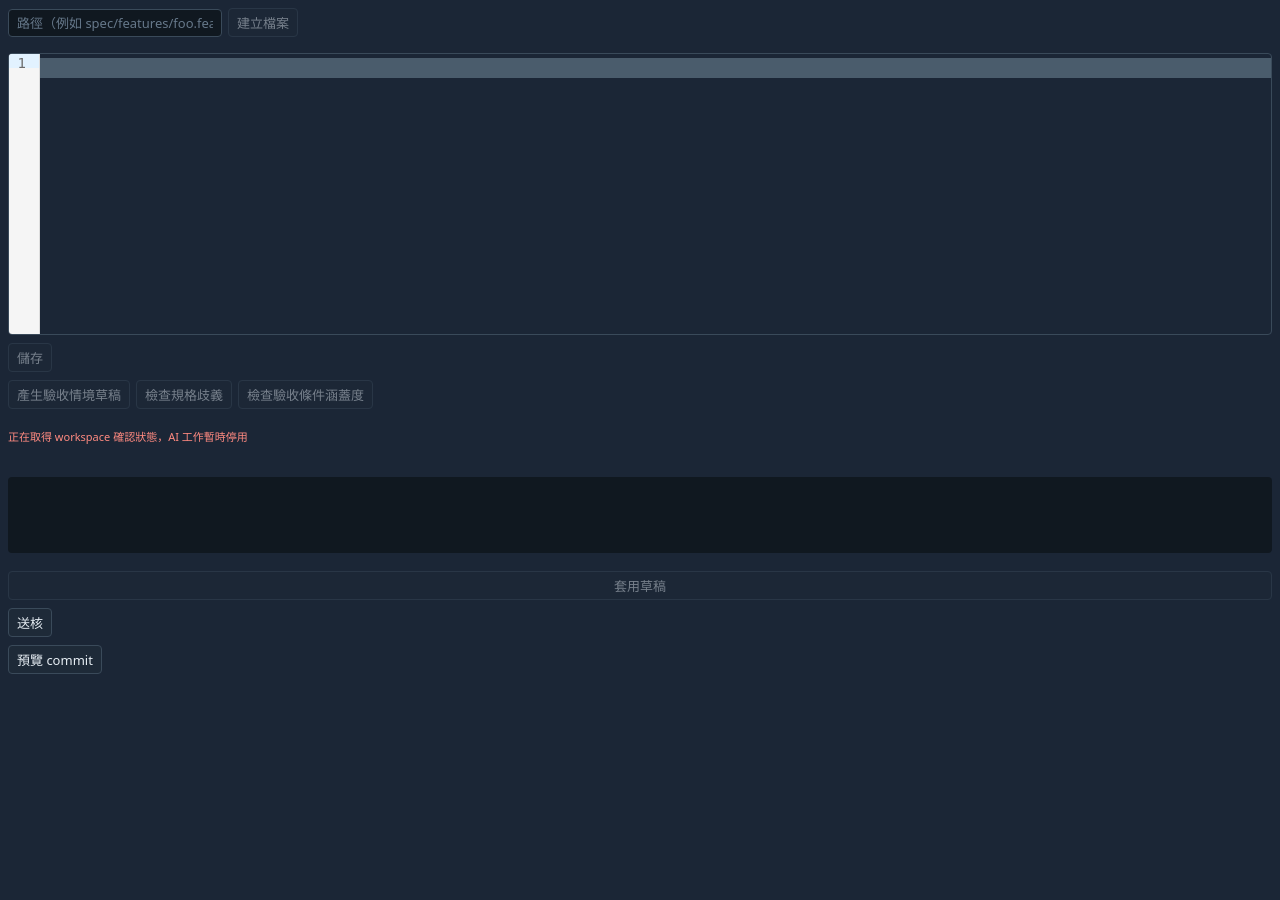
SpecWorkspace 新增檔案 › 失敗顯示錯誤原文，清單不動
Type "spec/features/dup.feature" into the field with test id "new-file-path".
click(115, 22); type("spec/features/dup.feature")  # box [8,8,222,36]
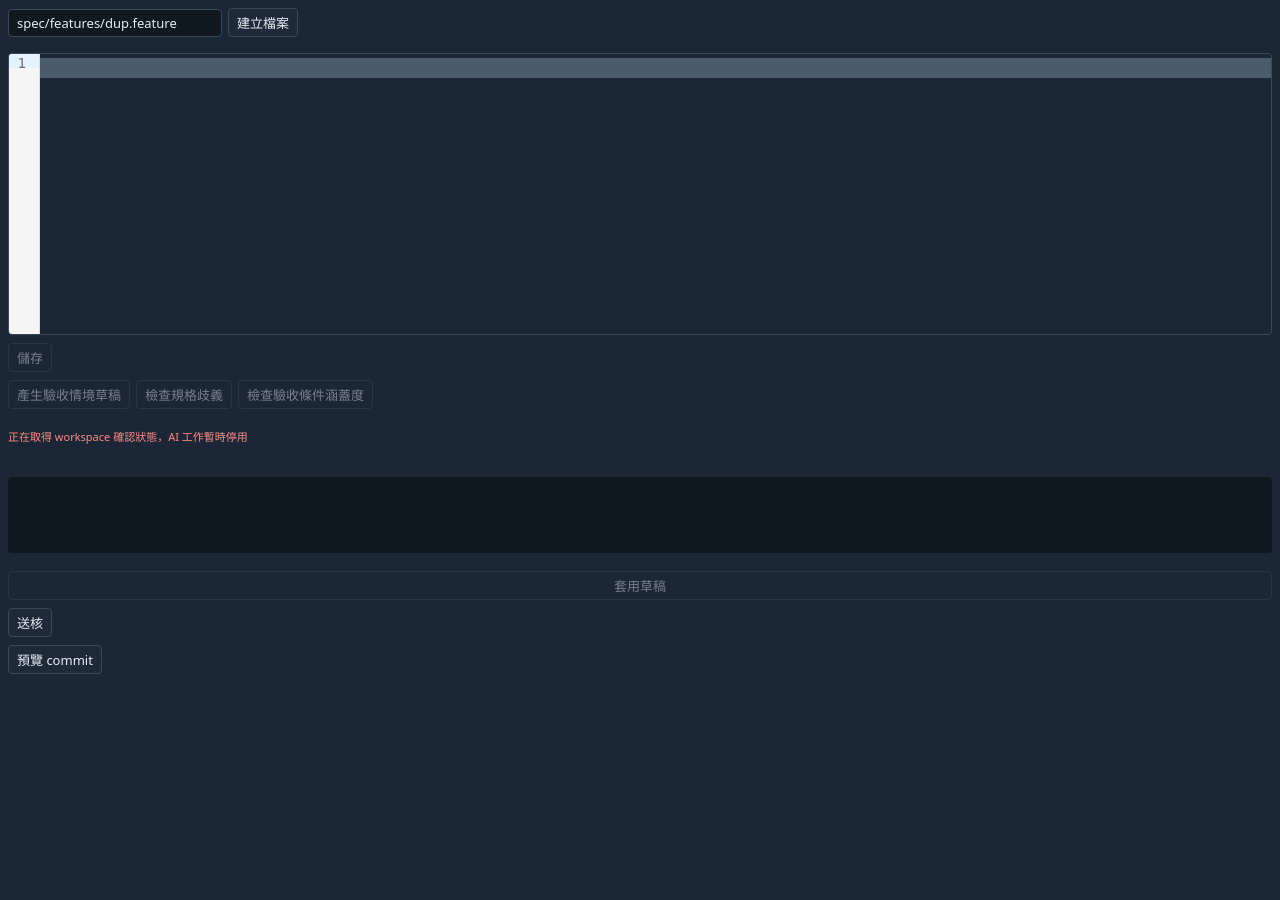
Click the button with test id "new-file-submit".
click(263, 22)  # box [228,8,298,37]
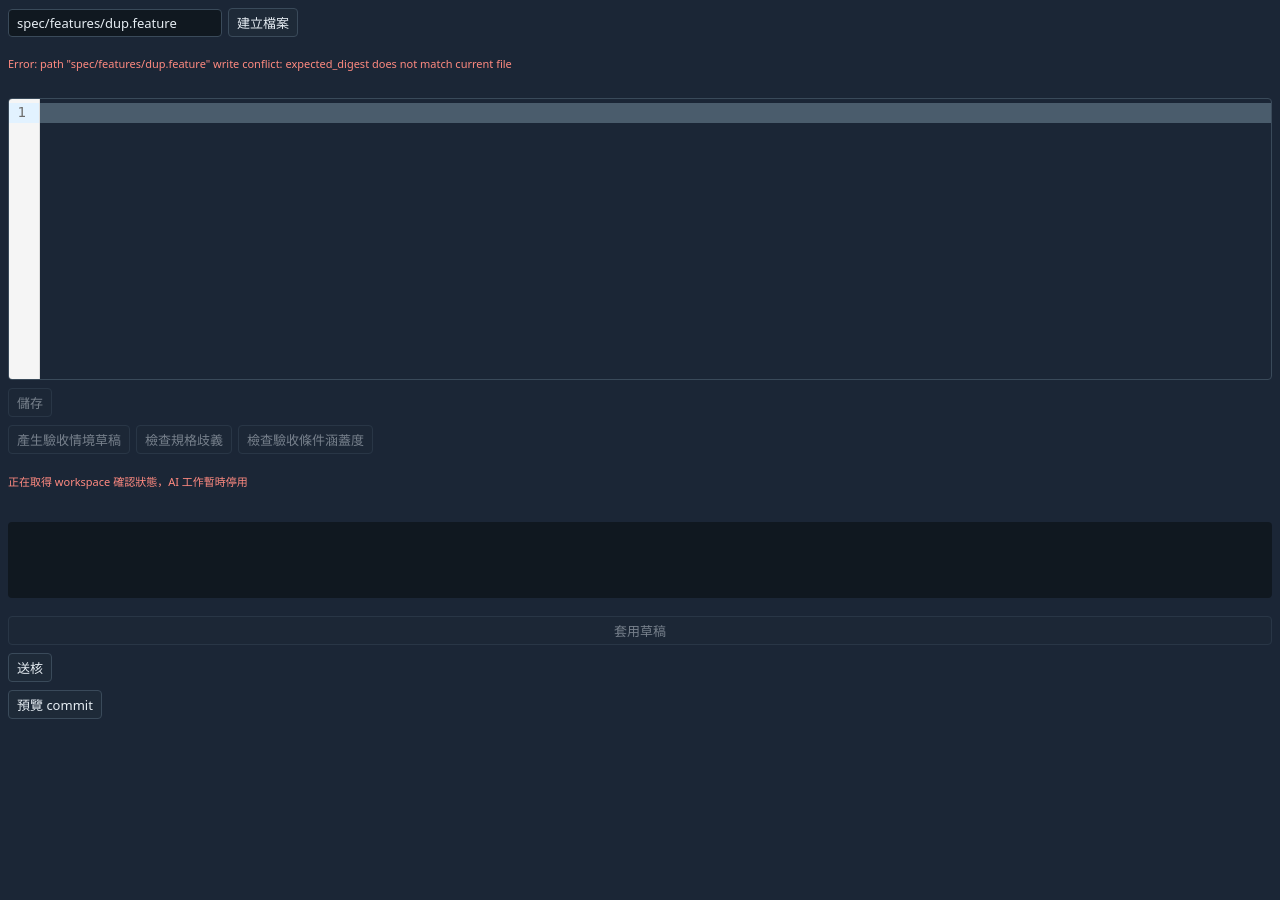
Now the text with test id "new-file-error" shows "write conflict: expected_digest does not match current file", box [8,56,512,71]
